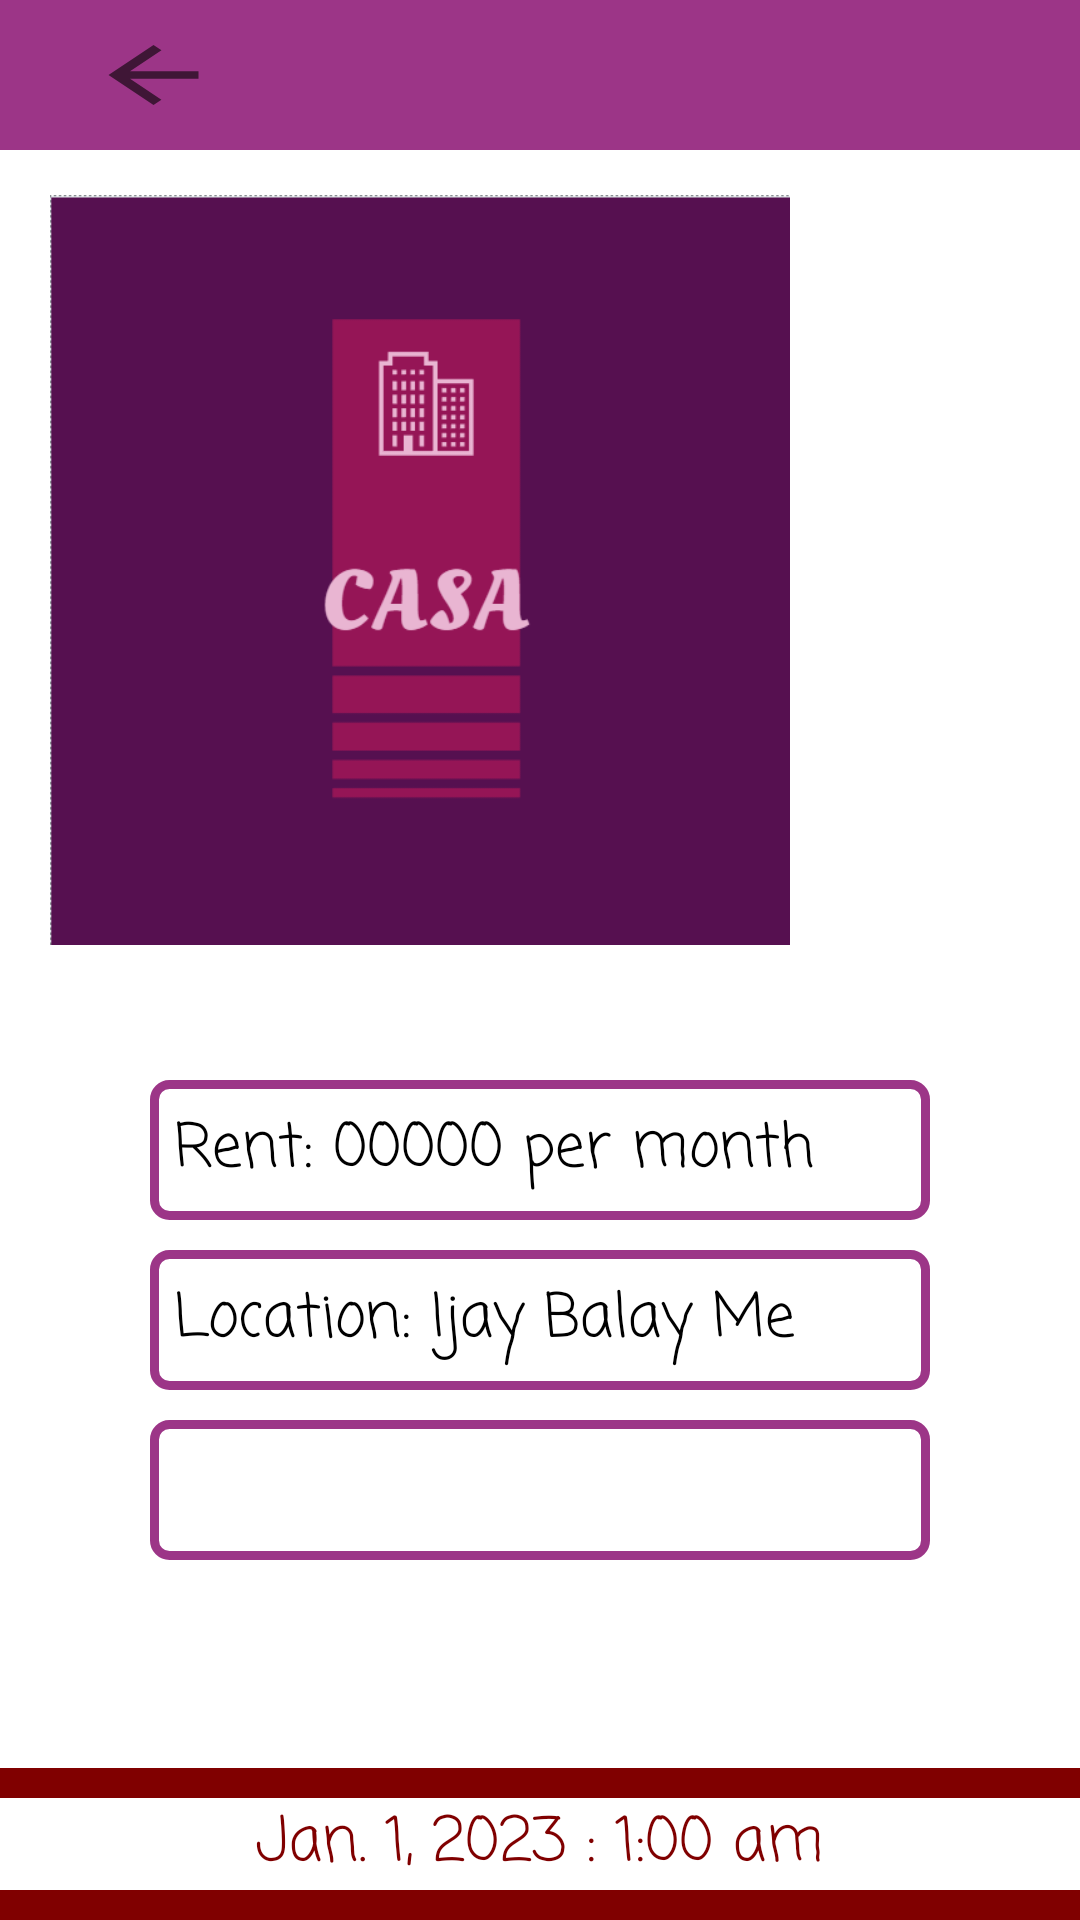

Icon bounding boxes for this 1080w x 1920h phone screenshot, format (x1=x1, y1=y1, x2=x2, y2=y2):
arrow back: (x1=109, y1=45, x2=199, y2=105)
